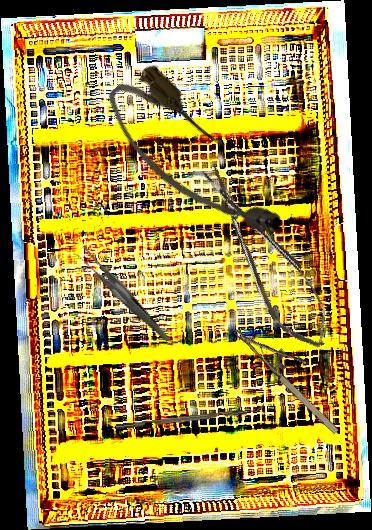Cannula: (93, 56, 295, 266)
Chopper: (115, 401, 265, 430)
Dressing Forceps: (74, 230, 170, 361)
Micro Scissor: (191, 152, 341, 361)
Needle Holder: (232, 308, 357, 438)
